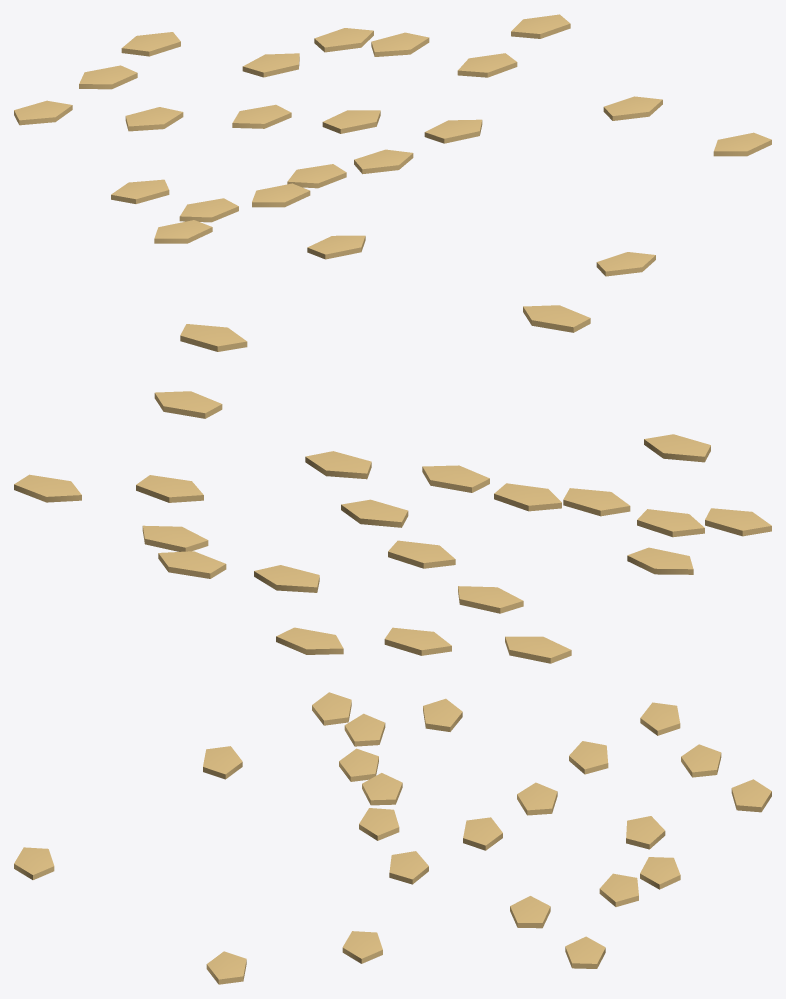
The model's file is PetalScatter.fbx.
3 renders of one model, top to bottom at view 1: azimuth 30°, elevation 25°; view 2: azimuth 150°, elevation 25°; view 3: azimuth 270°, elevation 25°, orthographic. The views are drawn at different scales.
Visible parts, largest first — view 1: PetalScatter; view 2: PetalScatter; view 3: PetalScatter.
Part boxes in pixels (x1,y1,x2,y2): PetalScatter: [14, 14, 771, 276]; PetalScatter: [14, 305, 771, 663]; PetalScatter: [14, 692, 771, 984].
Bounding box in the file's own units: 0.9559 × 0.01 × 1.07.
1 material, 1 textured.
